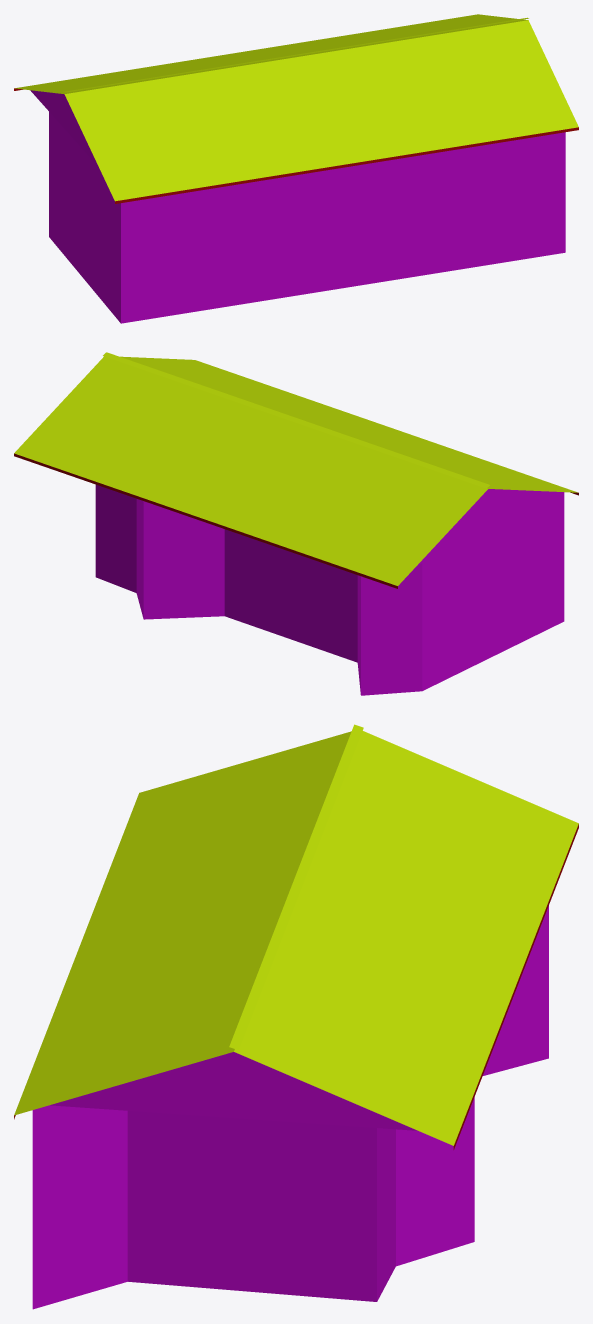
Rendered from lct_13.glb.
3 views of the same model, one above another, from view 1: azimuth 30°, elevation 25°; view 2: azimuth 150°, elevation 25°; view 3: azimuth 270°, elevation 25° (orthographic). The views are drawn at different scales.
Parts seen in each view (by area): view 1: lct_13; view 2: lct_13; view 3: lct_13.
Part boxes in pixels (x1,y1,x2,y2): lct_13: (14,14,578,323); lct_13: (14,352,578,695); lct_13: (14,724,578,1309).
Bounding box in the file's own units: 20.67 × 7.73 × 13.98.
